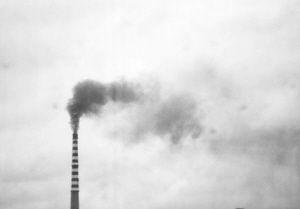smoke: (64, 77, 137, 124)
